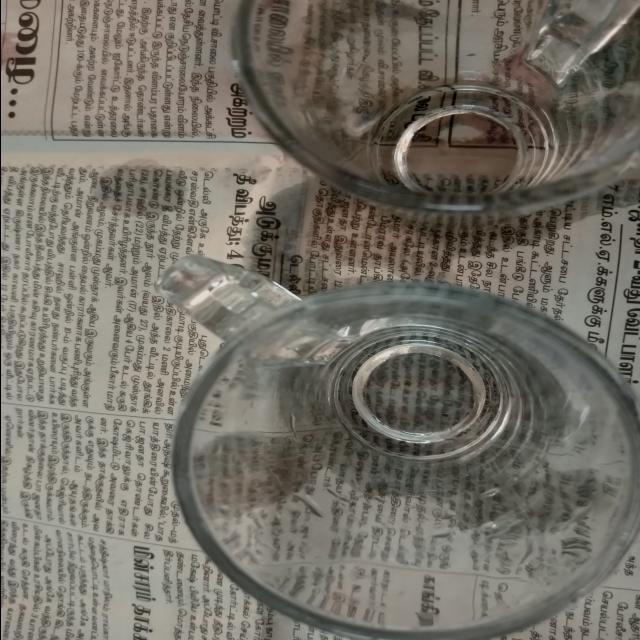glass-VX4N: (135, 257, 640, 640), (224, 0, 640, 232)
